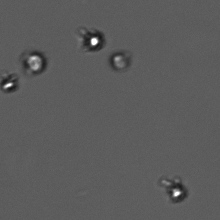Living Cell: (154, 171, 191, 207), (76, 23, 108, 54), (18, 47, 50, 78), (106, 47, 135, 74), (1, 68, 23, 97)
